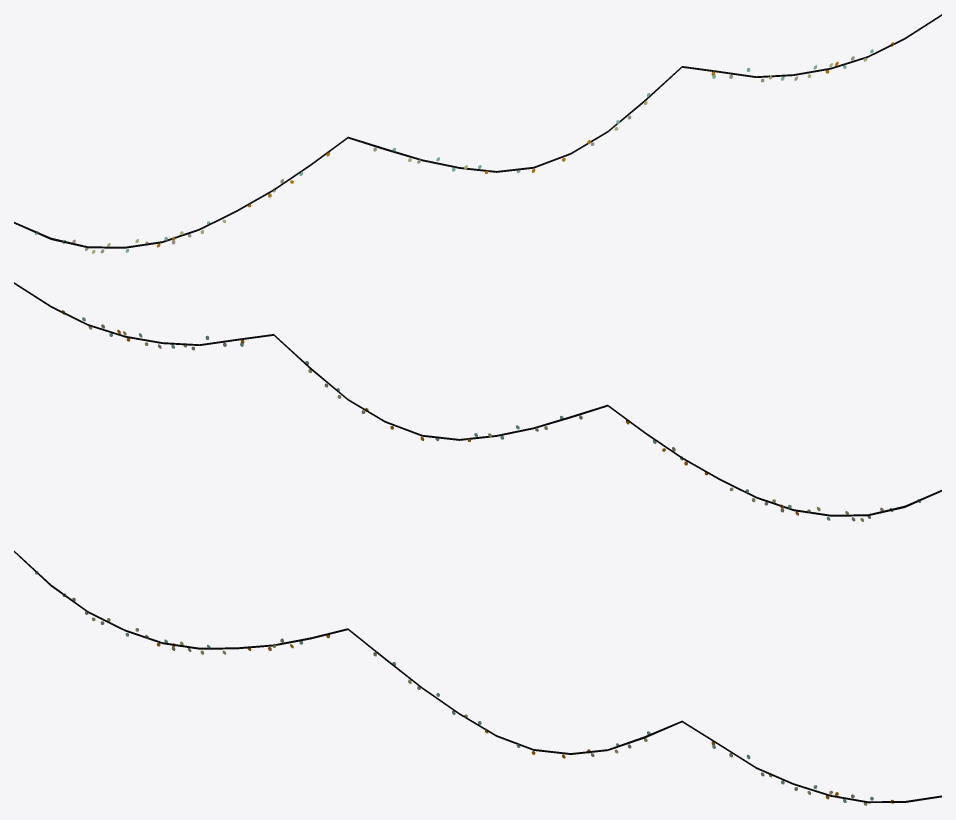
Rendered from Blocking_Guarlands.fbx.
The picture shows the model from 3 angles, top to bottom: view 1: azimuth 30°, elevation 25°; view 2: azimuth 150°, elevation 25°; view 3: azimuth 330°, elevation 25°; orthographic projection.
Parts seen in each view (by area): view 1: Strings; view 2: Strings; view 3: Strings.
Boxes of the visible parts, box(x1,y1,x2,y2) form: Strings: box(14, 14, 941, 248); Strings: box(14, 282, 941, 516); Strings: box(14, 550, 941, 803).
Size of the model in its own units: 80.95 by 6.79 by 0.
